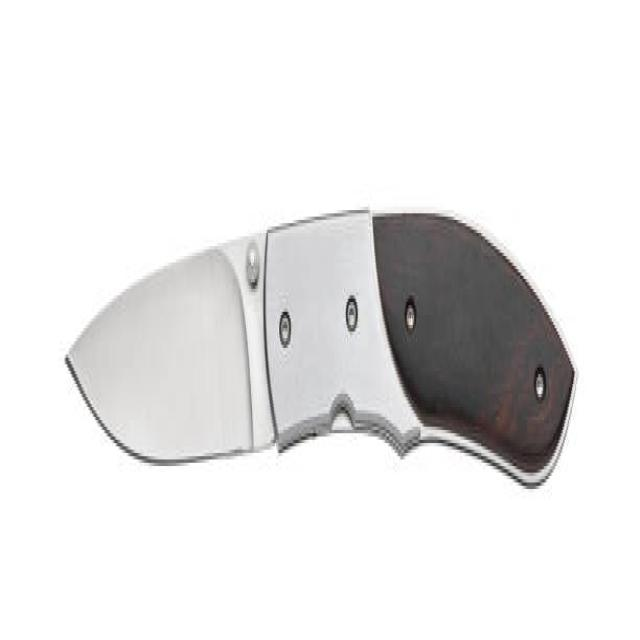knife: (65, 174, 585, 489)
